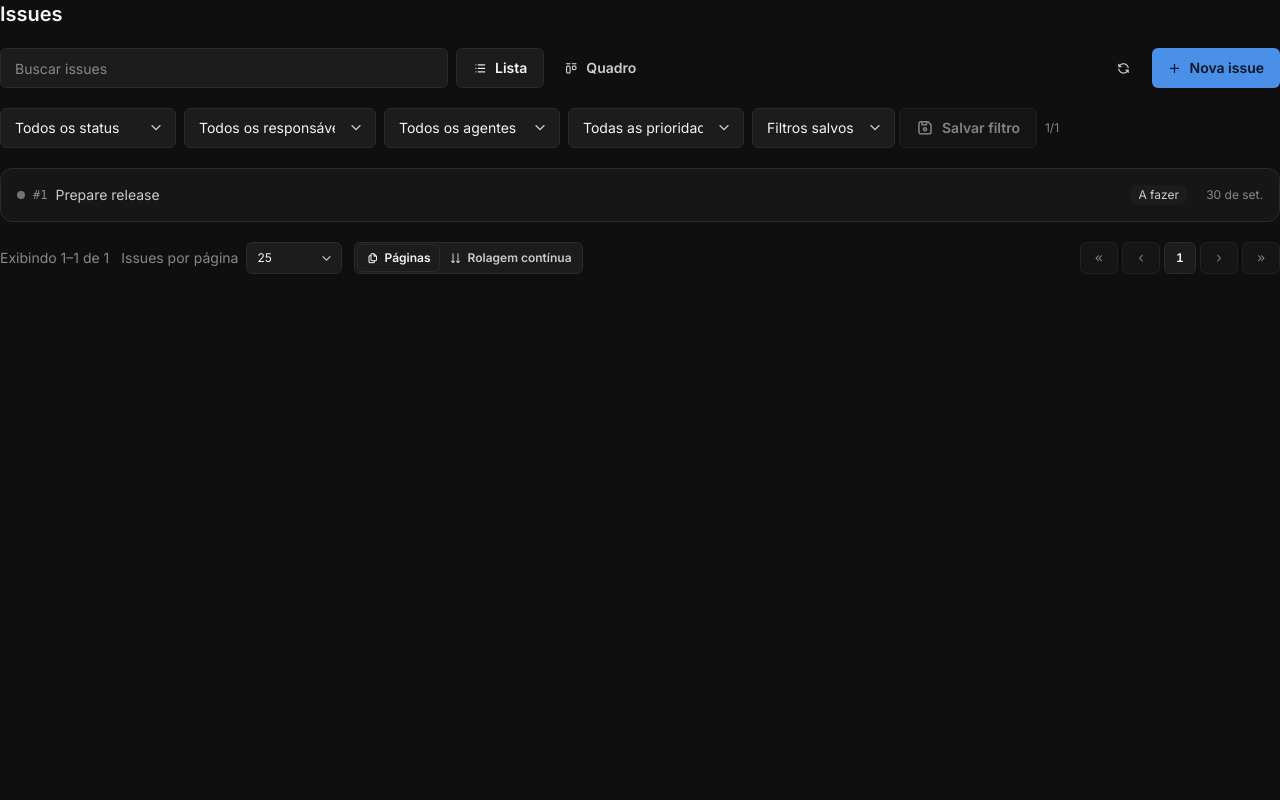
WorkView › preserves sanitized imported HTML descriptions
Click the button "#1 Prepare release" at (108, 194), box [17,181,1118,209]
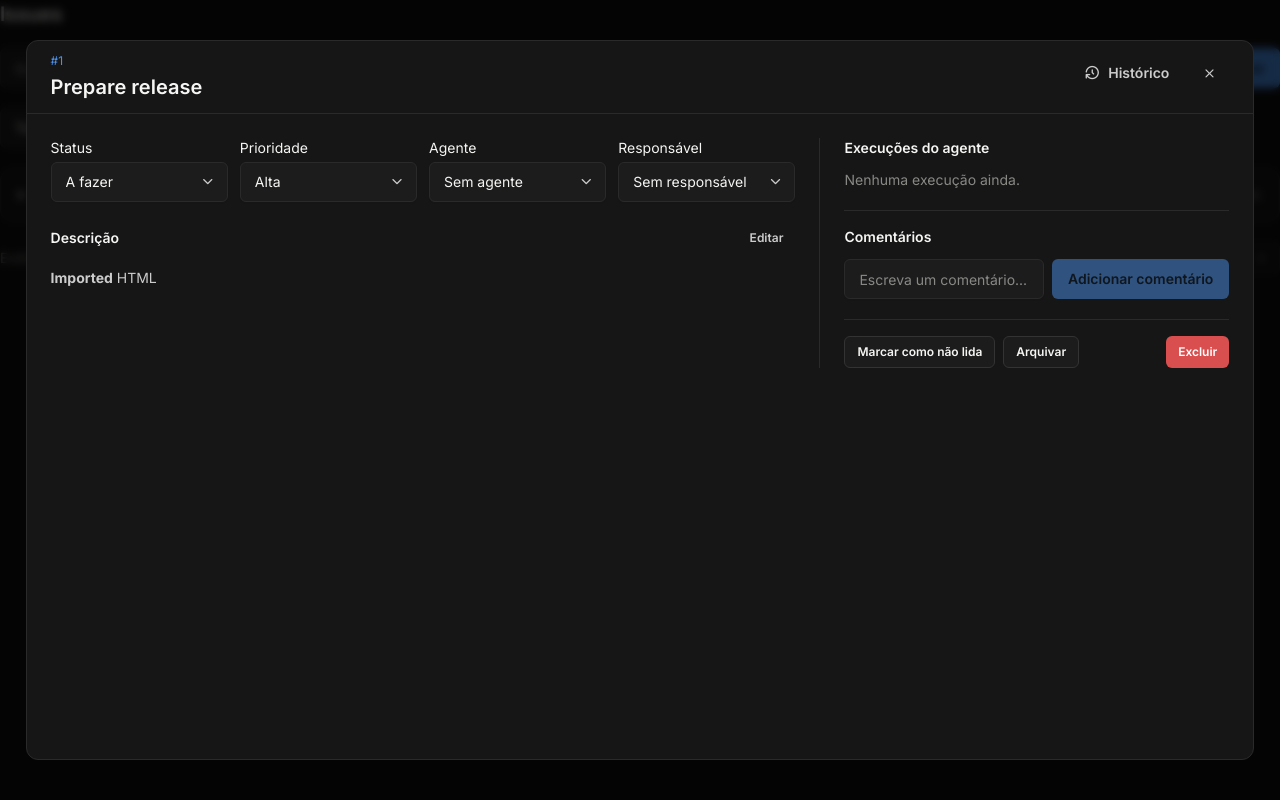
Expected: the text "Imported" is shown, [51,269,113,286]
